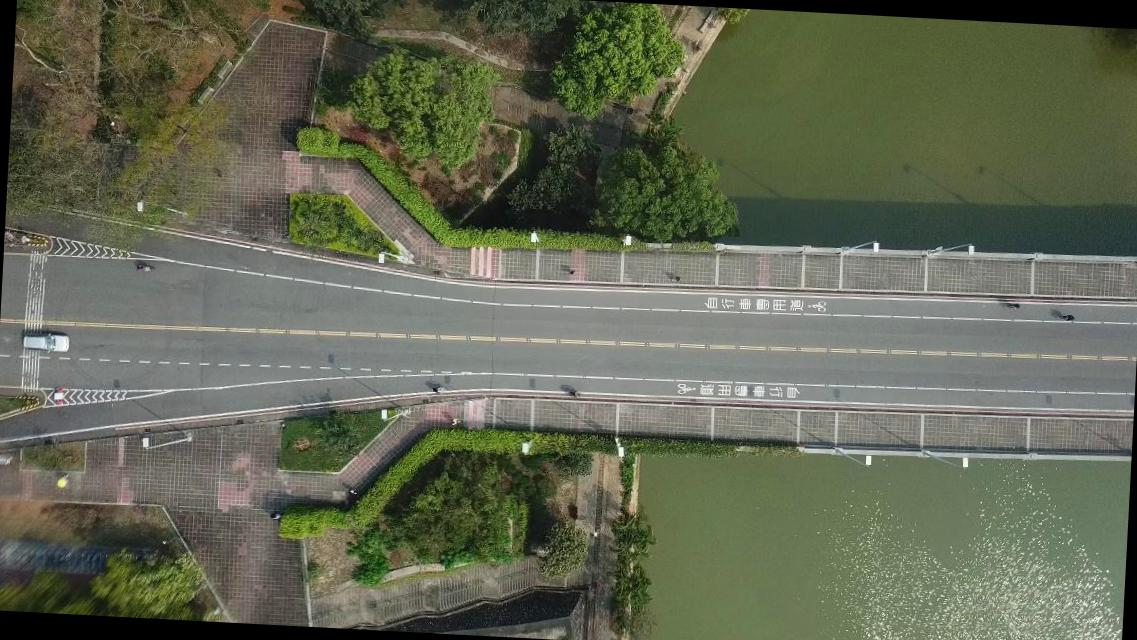vehicle: (22, 332, 68, 354)
